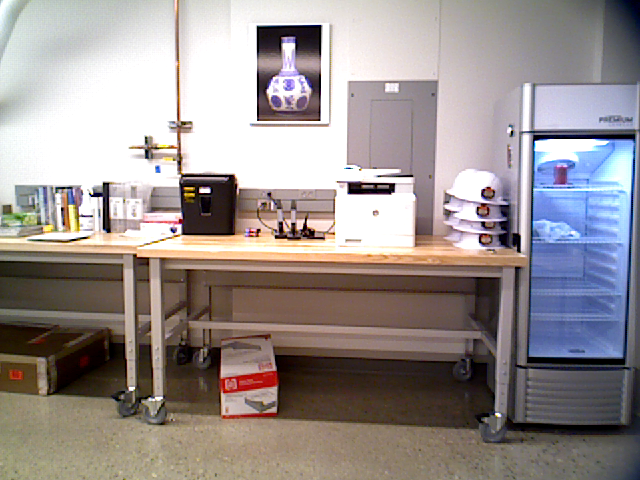painting2: (254, 23, 326, 122)
